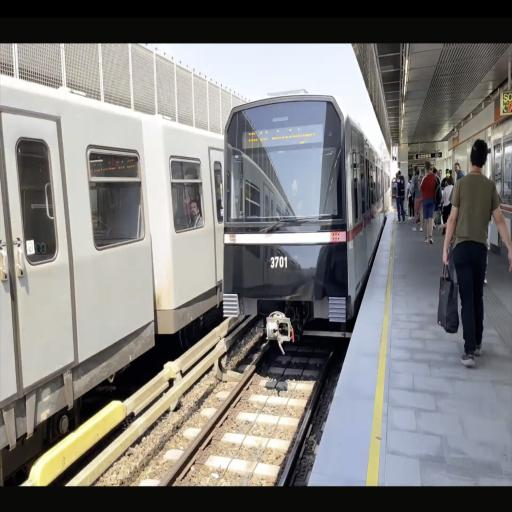X-Wagen: (220, 94, 390, 319)
